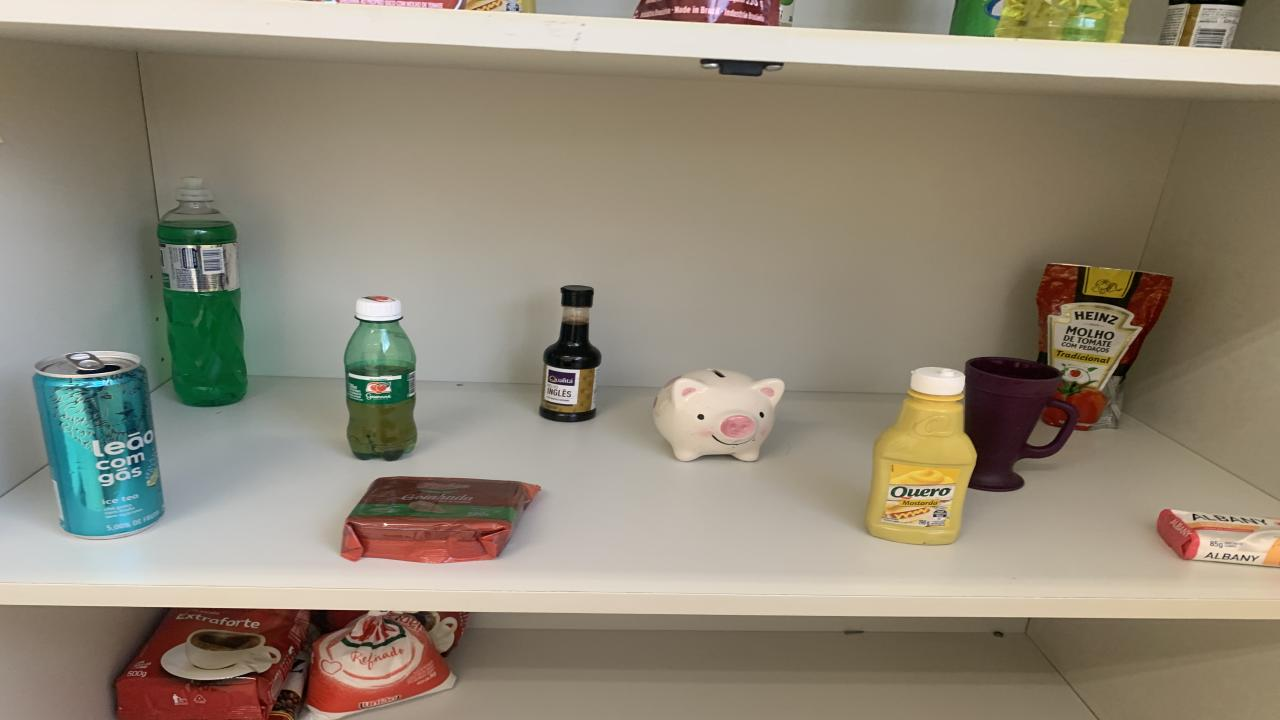Detergent-Cleanup_Items: (158, 176, 248, 407), (995, 0, 1130, 43)
English_Sauce-Pantry_Items: (540, 285, 602, 422), (1158, 0, 1245, 49)
Guarana-Drinks: (345, 296, 418, 461)
Guava-Snacks: (342, 476, 540, 562)
Mustard-Pantry_Items: (865, 368, 978, 544)
Pig_Safe-Miscellaneous: (652, 369, 785, 461)
Pringles-Snacks: (950, 0, 1002, 38)
Soap-Cleanup_Items: (1158, 510, 1280, 566)
Soda-Drinks: (775, 0, 795, 26)
Tea-Drinks: (32, 351, 165, 538)
Tomato_Sauce-Pantry_Items: (1038, 264, 1172, 429), (635, 0, 780, 26)
